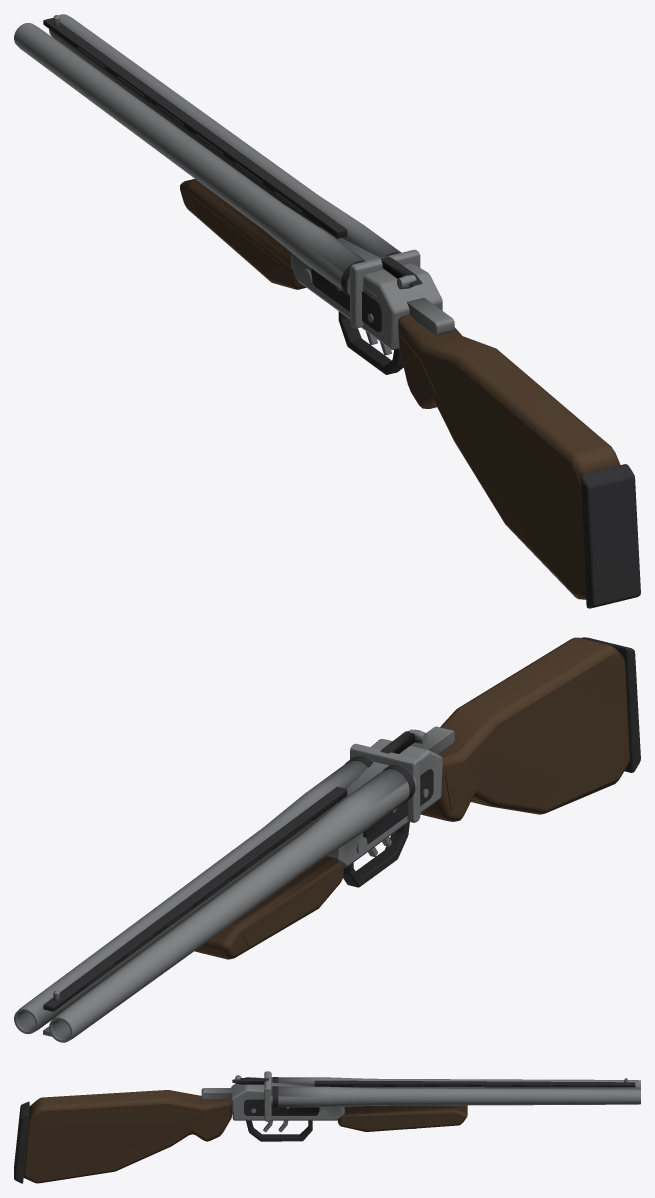
The model's file is coachman_2b.glb.
The picture shows the model from 3 angles, top to bottom: view 1: azimuth 30°, elevation 25°; view 2: azimuth 150°, elevation 25°; view 3: azimuth 270°, elevation 25°; orthographic projection. The views are drawn at different scales.
Visible parts, largest first — view 1: Stock, Receiver, BarrelL, BarrelR, Foregrip; view 2: Stock, BarrelL, Receiver, BarrelR, Foregrip; view 3: Stock, BarrelR, Receiver, Foregrip, BarrelL, Bolt.
Part boxes in pixels (x1,y1,x2,y2): Stock: [398, 314, 640, 608]; Receiver: [43, 14, 454, 374]; BarrelL: [14, 23, 365, 296]; BarrelR: [49, 14, 401, 257]; Foregrip: [180, 179, 306, 289]; Stock: [420, 637, 640, 821]; BarrelL: [49, 764, 416, 1042]; Receiver: [43, 726, 454, 1036]; BarrelR: [14, 756, 373, 1033]; Foregrip: [194, 856, 343, 959]; Stock: [14, 1090, 232, 1183]; BarrelR: [271, 1086, 640, 1107]; Receiver: [201, 1071, 635, 1141]; Foregrip: [337, 1105, 467, 1131]; BarrelL: [271, 1077, 640, 1089]; Bolt: [232, 1078, 268, 1084].
Size of the model in its own units: 0.071 by 0.1818 by 1.02.
